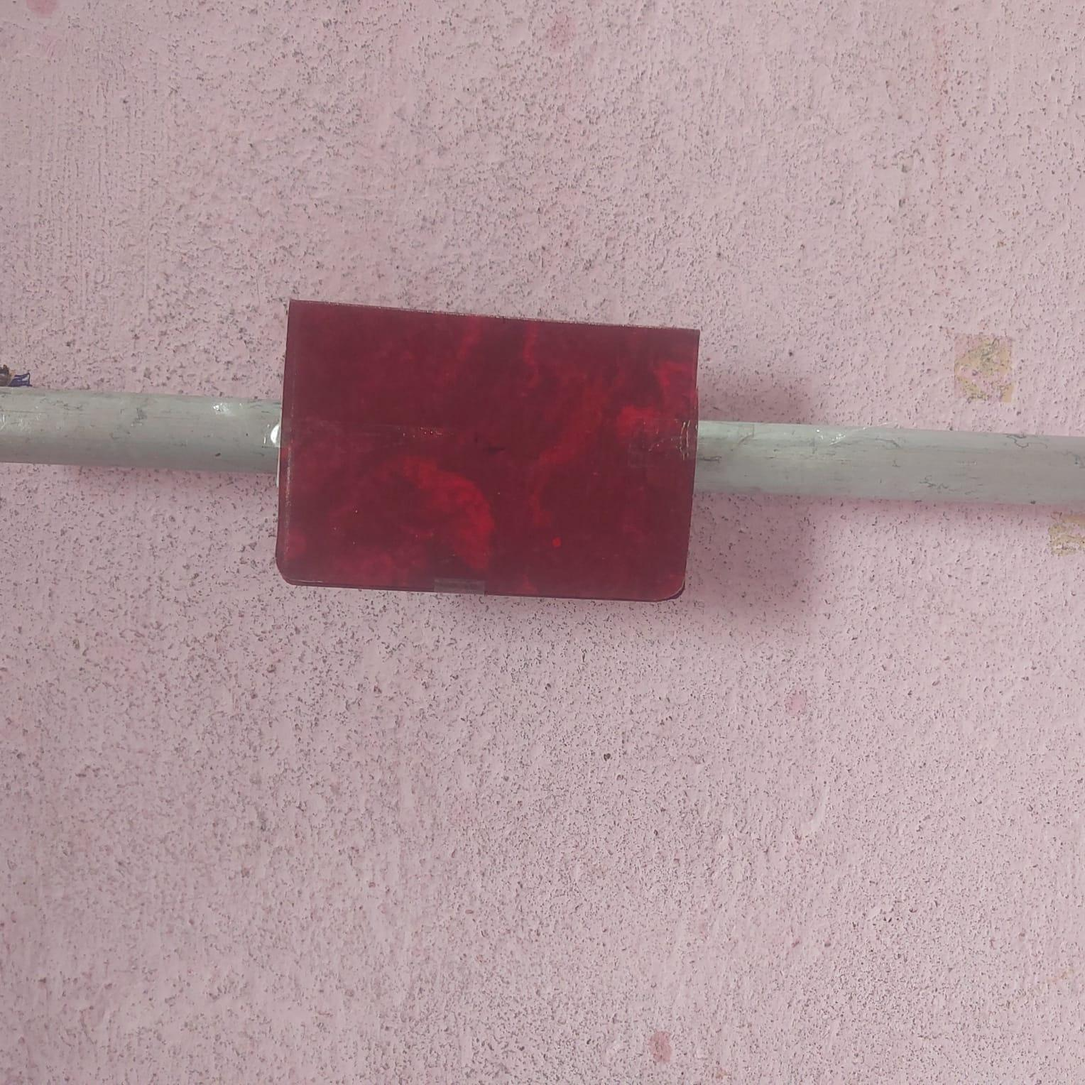wallet: (283, 289, 698, 599)
